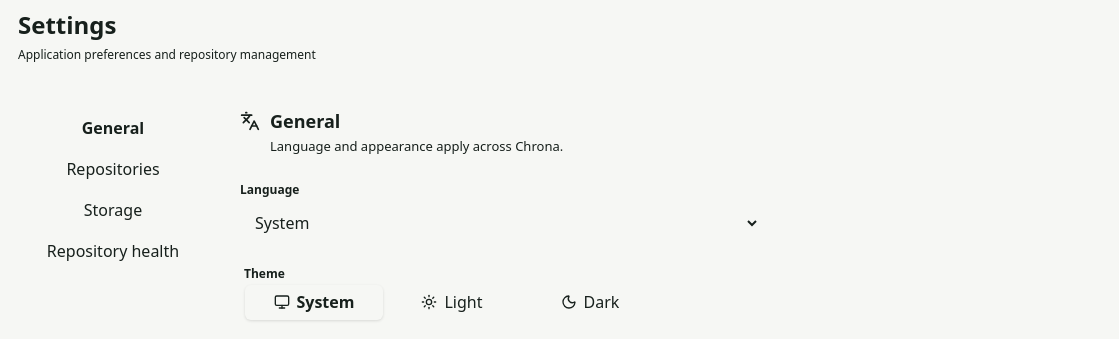
Test: opens full repository management from settings
This screenshot has width=1119, height=339.
Click the button "Repositories".
click(113, 169)  # box top-left (18, 150), bottom-right (208, 188)
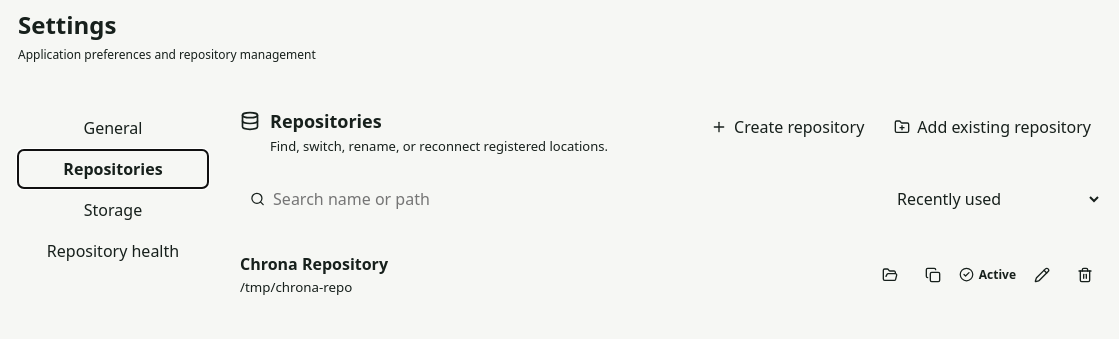
Check: the search field named "Search repositories" is shown, box top-left (273, 182), bottom-right (650, 216)
Check: the dropdown named "Sort repositories" is shown, box top-left (882, 182), bottom-right (1102, 216)
Check: the button named "Rename Chrona Repository" is enabled, box top-left (1024, 257), bottom-right (1059, 292)
